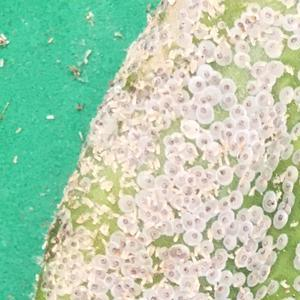Femea: (195, 93, 215, 113), (220, 78, 233, 105), (192, 69, 210, 88), (194, 168, 210, 184), (164, 134, 181, 144), (220, 127, 232, 141), (120, 196, 133, 208), (187, 231, 199, 244), (229, 191, 238, 207), (263, 197, 274, 210), (165, 266, 176, 279), (141, 175, 154, 185), (192, 215, 205, 225), (219, 168, 229, 181), (234, 132, 246, 142), (195, 209, 207, 219), (259, 92, 269, 104), (214, 224, 222, 239), (219, 199, 231, 209), (237, 211, 247, 223), (119, 217, 129, 229), (276, 212, 285, 225), (202, 204, 215, 213), (240, 224, 251, 234), (215, 50, 224, 62), (245, 96, 252, 111), (291, 35, 299, 48), (238, 252, 246, 265), (233, 106, 242, 117), (219, 212, 228, 223), (236, 119, 246, 128), (227, 220, 236, 230)
Macho: (103, 191, 116, 206), (127, 180, 139, 192), (204, 229, 214, 242), (153, 144, 160, 155), (155, 156, 160, 168)
